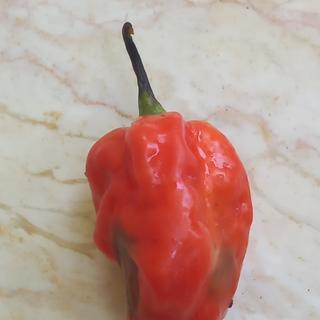Defect: (105, 227, 151, 319), (203, 236, 247, 305)
